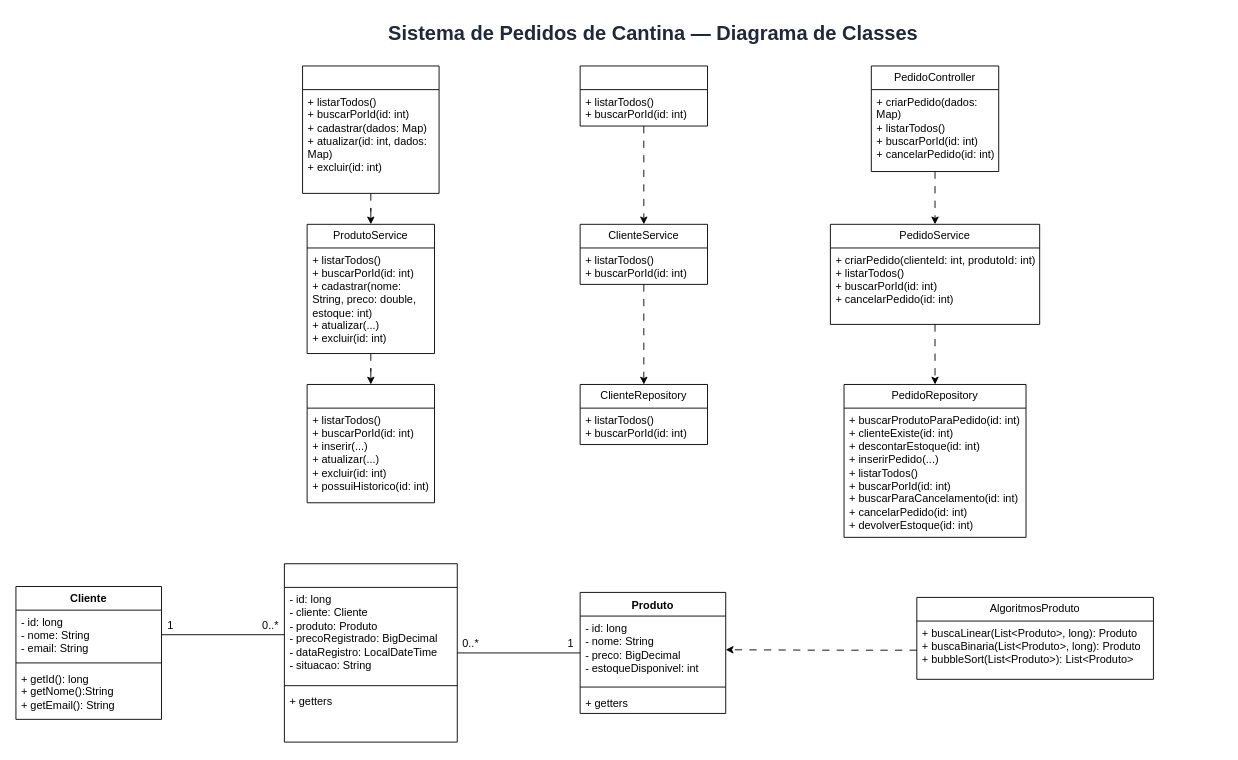
The diagram is 1238 pixels wide and 760 high, and some of its shapes have lost their labels. Here are the shapes that lost their labels. From the top down, the box of each, then its label:
(579, 65, 708, 126): ClienteController
(302, 65, 439, 193): ProdutoController
(306, 384, 435, 503): ProdutoRepository
(283, 563, 457, 742): Pedido
